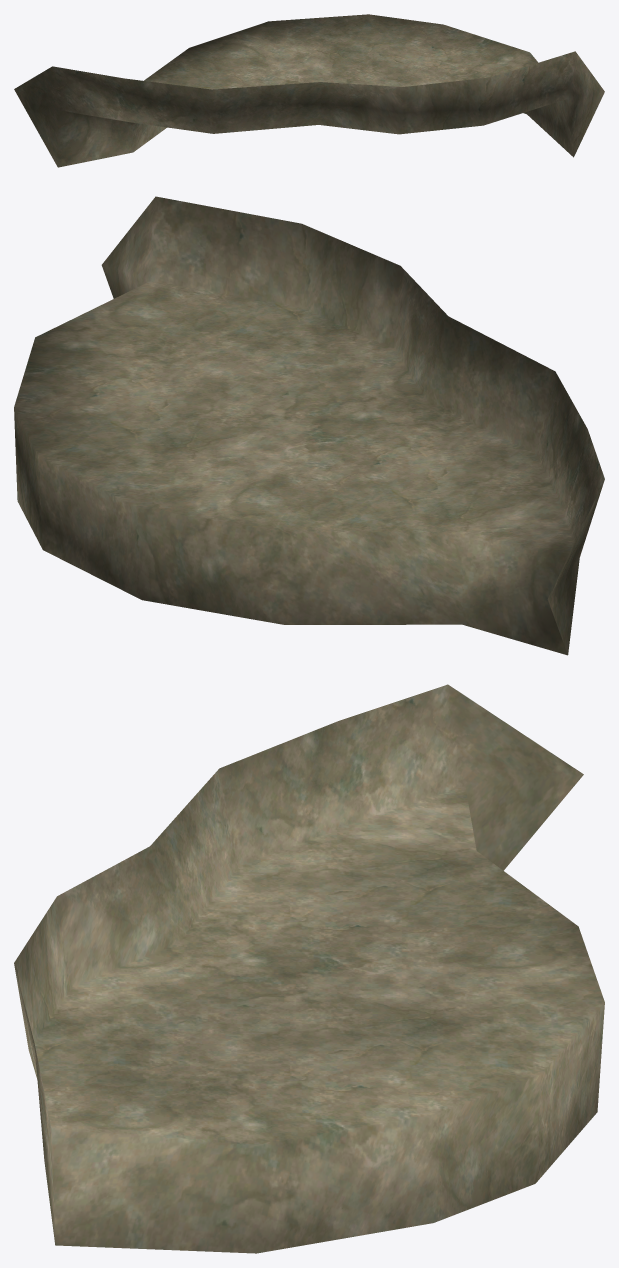
Rendered from OVERHILL_A_01_OBJECT209.fbx.
3 renders of one model, top to bottom at view 1: azimuth 30°, elevation 25°; view 2: azimuth 150°, elevation 25°; view 3: azimuth 270°, elevation 25°, orthographic. The views are drawn at different scales.
Visible parts, largest first — view 1: OVERHILL_A_01_OBJECT209; view 2: OVERHILL_A_01_OBJECT209; view 3: OVERHILL_A_01_OBJECT209.
Part boxes in pixels (<box>): OVERHILL_A_01_OBJECT209: <box>14,14,604,167</box>; OVERHILL_A_01_OBJECT209: <box>14,196,604,655</box>; OVERHILL_A_01_OBJECT209: <box>14,684,604,1253</box>.
Size of the model in its own units: 48516 by 11751 by 31407.
Materials: 1 (1 with a texture image).
